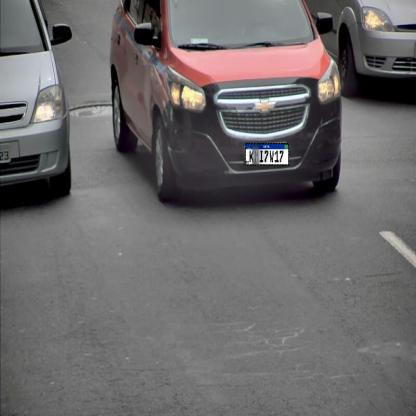PlacaM: (245, 143, 289, 166)
